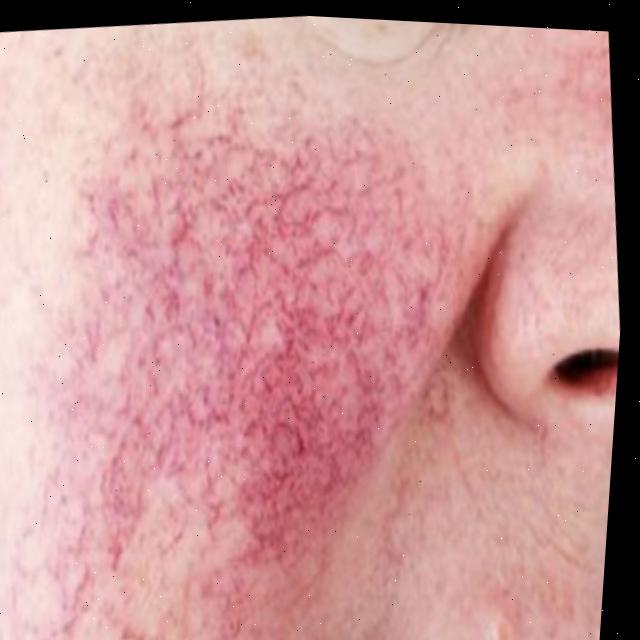Rosacea: (76, 107, 437, 564)
